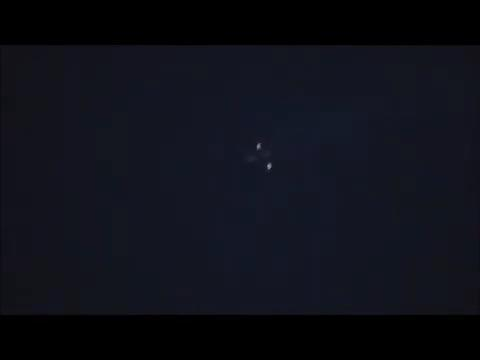Plane: (223, 131, 298, 180)
